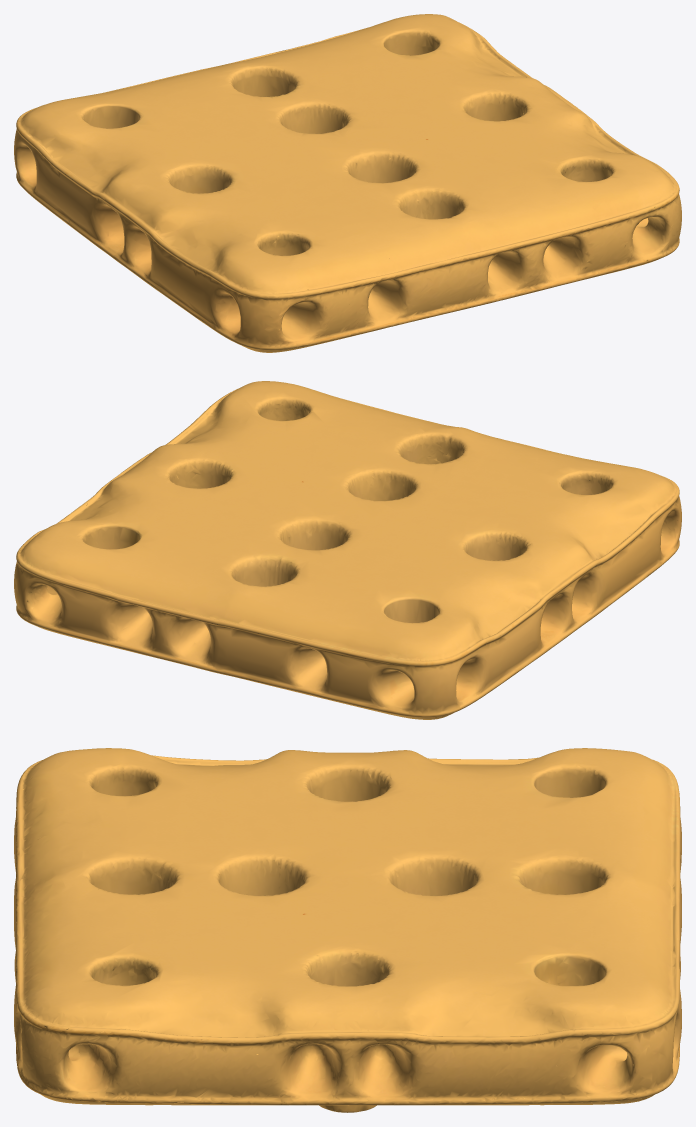
Rendered from raw.glb.
The picture shows the model from 3 angles, top to bottom: view 1: azimuth 30°, elevation 25°; view 2: azimuth 150°, elevation 25°; view 3: azimuth 270°, elevation 25°; orthographic projection. The views are drawn at different scales.
Visible parts, largest first — view 1: Mesh_0; view 2: Mesh_0; view 3: Mesh_0.
Part boxes in pixels (x1,y1,x2,y2): Mesh_0: (14,14,681,352); Mesh_0: (14,381,681,719); Mesh_0: (14,748,681,1112).
Bounding box in the file's own units: 1.91 × 0.7062 × 1.91.
1 material, 1 textured.
